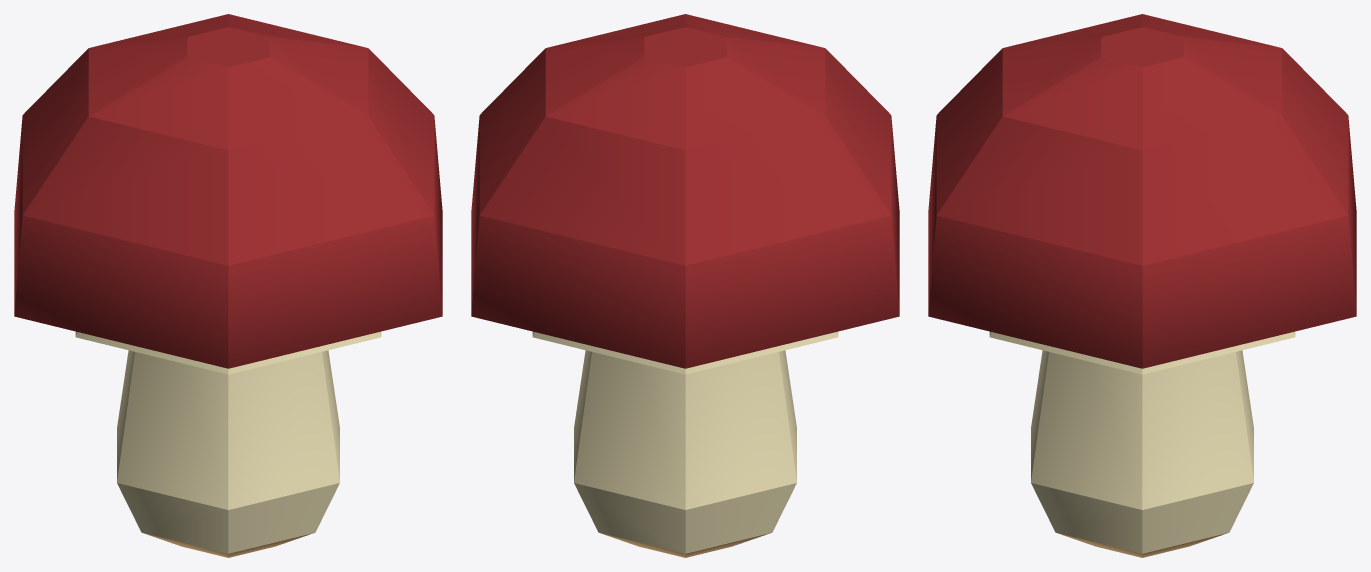
The model's file is Mushroom(1).fbx.
The picture shows the model from 3 angles, left to right: view 1: azimuth 30°, elevation 25°; view 2: azimuth 150°, elevation 25°; view 3: azimuth 270°, elevation 25°; orthographic projection.
Parts seen in each view (by area): view 1: Mushroom(1); view 2: Mushroom(1); view 3: Mushroom(1).
Boxes of the visible parts, x1,y1,x2,y2 form: Mushroom(1): [14, 14, 442, 557]; Mushroom(1): [471, 14, 899, 557]; Mushroom(1): [928, 14, 1356, 557].
Size of the model in its own units: 0.2289 by 0.2492 by 0.1983.
